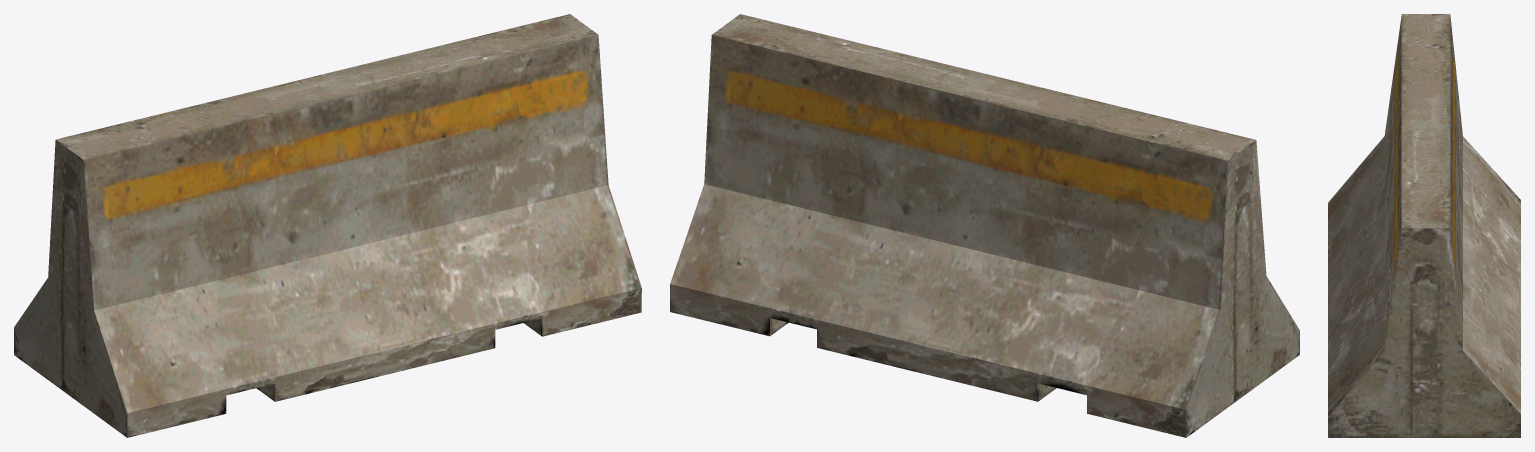
The model's file is Barricade.fbx.
3 renders of one model, left to right at view 1: azimuth 30°, elevation 25°; view 2: azimuth 150°, elevation 25°; view 3: azimuth 270°, elevation 25°, orthographic. The views are drawn at different scales.
Visible parts, largest first — view 1: Barricade; view 2: Barricade; view 3: Barricade.
Part boxes in pixels (left/top/right/bottom): Barricade: left=14, top=14, right=641, bottom=437; Barricade: left=670, top=14, right=1299, bottom=437; Barricade: left=1328, top=14, right=1520, bottom=437.
Size of the model in its own units: 235 by 107 by 89.42.
